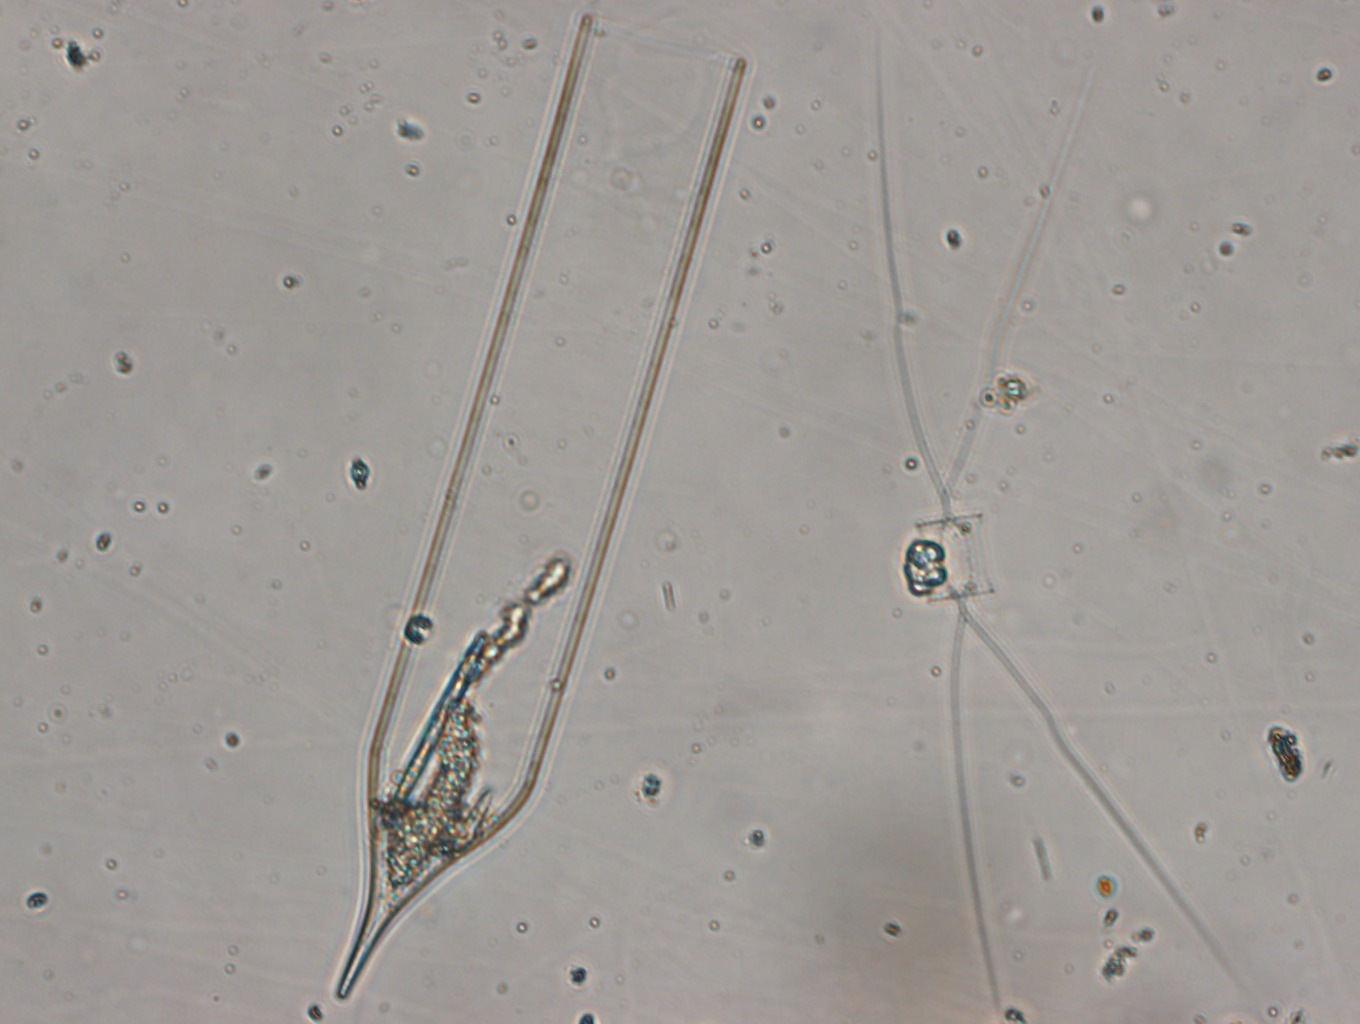chaetoceros: (867, 25, 1241, 1007)
rhizosolenia: (332, 17, 751, 1002)
